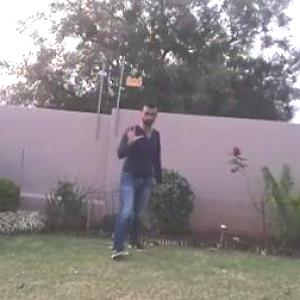follow_hand: (119, 118, 144, 149)
